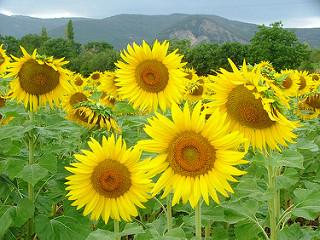sunflower: (143, 103, 247, 206), (208, 61, 299, 151), (65, 136, 157, 220), (114, 39, 191, 115), (5, 46, 75, 110), (78, 102, 118, 129), (0, 45, 11, 72)
